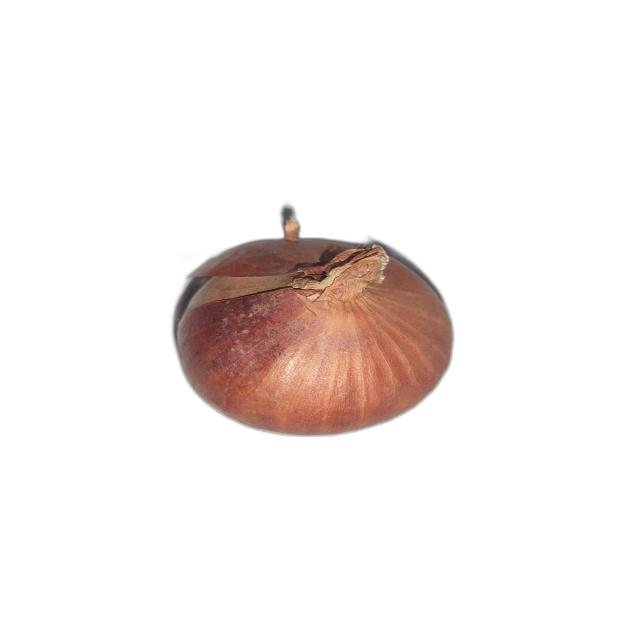onion: (177, 219, 453, 436)
